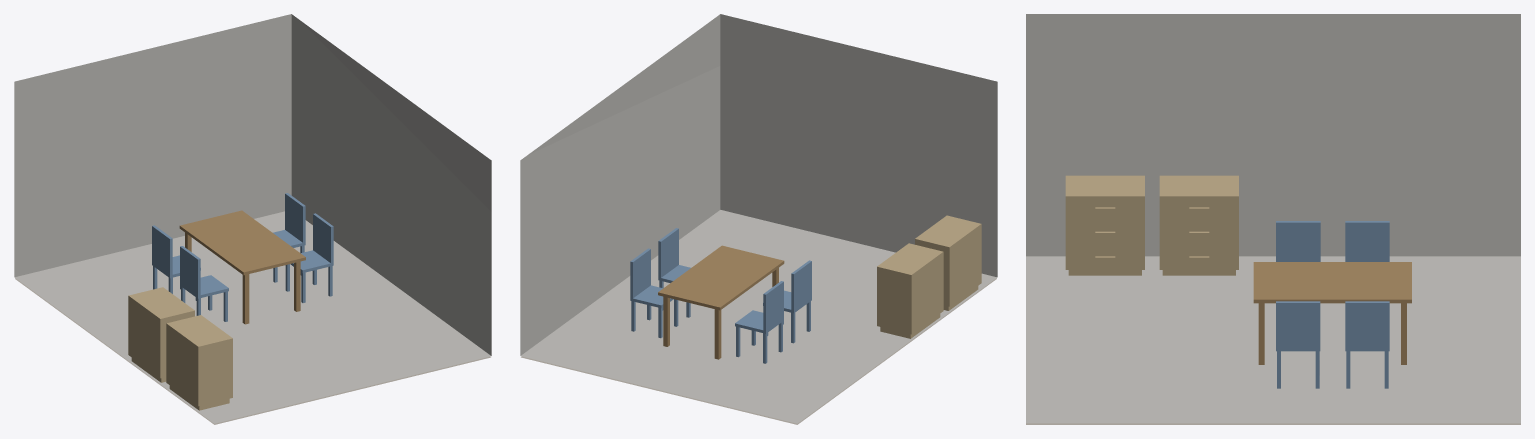
3 views of the same model, side by side, from view 1: azimuth 30°, elevation 25°; view 2: azimuth 150°, elevation 25°; view 3: azimuth 270°, elevation 25° (orthographic). The views are drawn at different scales.
Parts seen in each view (by area): view 1: room_scan, room_shell, furniture__table_01, furniture__drawers_01, furniture__chair_03, furniture__drawers_02, furniture__chair_01, furniture__chair_02, furniture__chair_04; view 2: room_shell, room_scan, furniture__table_01, furniture__drawers_02, furniture__chair_02, furniture__chair_04, furniture__drawers_01, furniture__chair_01, furniture__chair_03; view 3: room_shell, room_scan, furniture__drawers_01, furniture__drawers_02, furniture__table_01, furniture__chair_04, furniture__chair_03, furniture__chair_01, furniture__chair_02.
Part boxes in pixels (left/top/right/bottom): room_scan: left=14, top=14, right=491, bottom=423; room_shell: left=15, top=14, right=491, bottom=424; furniture__table_01: left=179, top=210, right=305, bottom=324; furniture__drawers_01: left=167, top=315, right=232, bottom=410; furniture__chair_03: left=285, top=213, right=333, bottom=302; furniture__drawers_02: left=128, top=287, right=194, bottom=382; furniture__chair_01: left=180, top=246, right=228, bottom=321; furniture__chair_02: left=152, top=225, right=200, bottom=300; furniture__chair_04: left=273, top=193, right=305, bottom=282; room_shell: left=520, top=14, right=997, bottom=424; room_scan: left=521, top=14, right=997, bottom=423; furniture__table_01: left=658, top=245, right=784, bottom=359; furniture__drawers_02: left=877, top=243, right=942, bottom=338; furniture__chair_02: left=735, top=281, right=783, bottom=363; furniture__chair_04: left=630, top=248, right=678, bottom=338; furniture__drawers_01: left=915, top=215, right=980, bottom=310; furniture__chair_01: left=763, top=260, right=811, bottom=343; furniture__chair_03: left=658, top=228, right=690, bottom=317; room_shell: left=1026, top=14, right=1520, bottom=424; room_scan: left=1026, top=256, right=1520, bottom=423; furniture__drawers_01: left=1065, top=175, right=1144, bottom=275; furniture__drawers_02: left=1159, top=175, right=1238, bottom=275; furniture__table_01: left=1253, top=262, right=1411, bottom=364; furniture__chair_04: left=1345, top=301, right=1389, bottom=388; furniture__chair_03: left=1276, top=301, right=1320, bottom=388; furniture__chair_01: left=1276, top=221, right=1320, bottom=261; furniture__chair_02: left=1345, top=221, right=1389, bottom=261.
Size of the model in its own units: 4 by 2.72 by 5.
